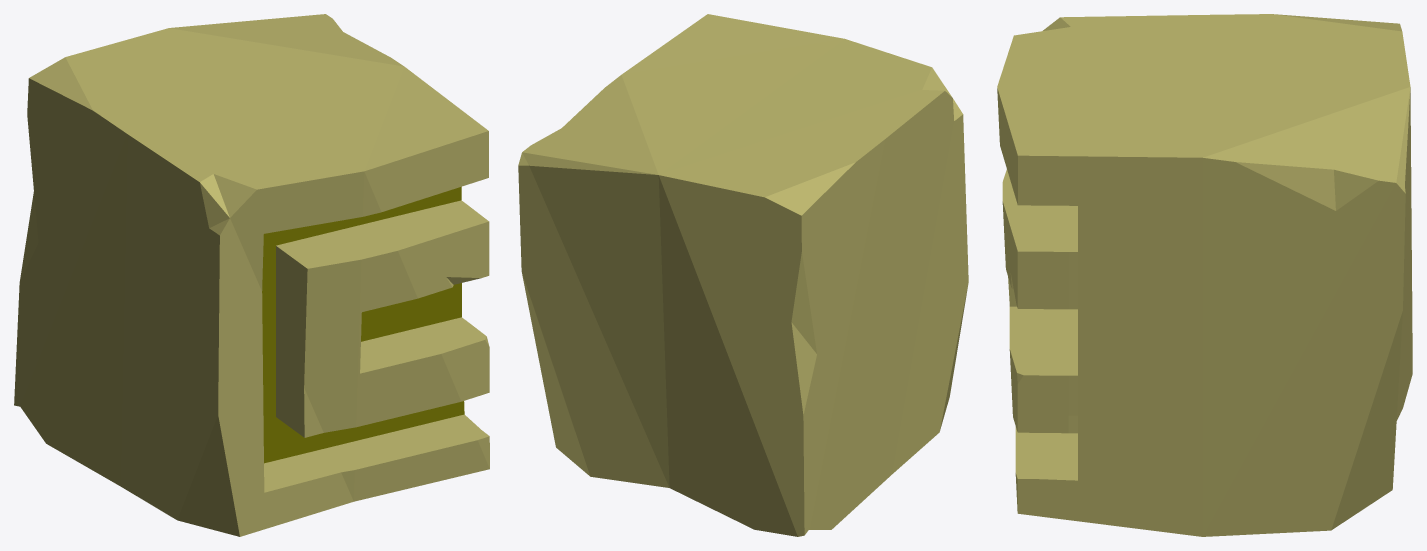
Rendered from Prop_Jungle_Temple_Pillar_Block_Markings_02.FBX.
The picture shows the model from 3 angles, left to right: view 1: azimuth 30°, elevation 25°; view 2: azimuth 150°, elevation 25°; view 3: azimuth 270°, elevation 25°; orthographic projection. The views are drawn at different scales.
Parts seen in each view (by area): view 1: Prop_Jungle_Temple_Pillar_Block_Markings_02; view 2: Prop_Jungle_Temple_Pillar_Block_Markings_02; view 3: Prop_Jungle_Temple_Pillar_Block_Markings_02.
Boxes of the visible parts, x1,y1,x2,y2 form: Prop_Jungle_Temple_Pillar_Block_Markings_02: [14, 14, 489, 536]; Prop_Jungle_Temple_Pillar_Block_Markings_02: [518, 14, 968, 536]; Prop_Jungle_Temple_Pillar_Block_Markings_02: [997, 14, 1412, 536].
Bounding box in the file's own units: 1693 × 1901 × 1896.
